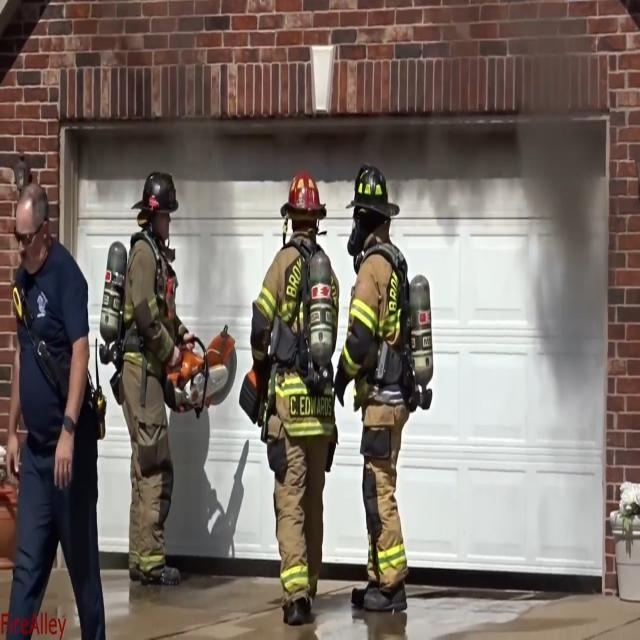Smoke: (509, 40, 606, 380)
